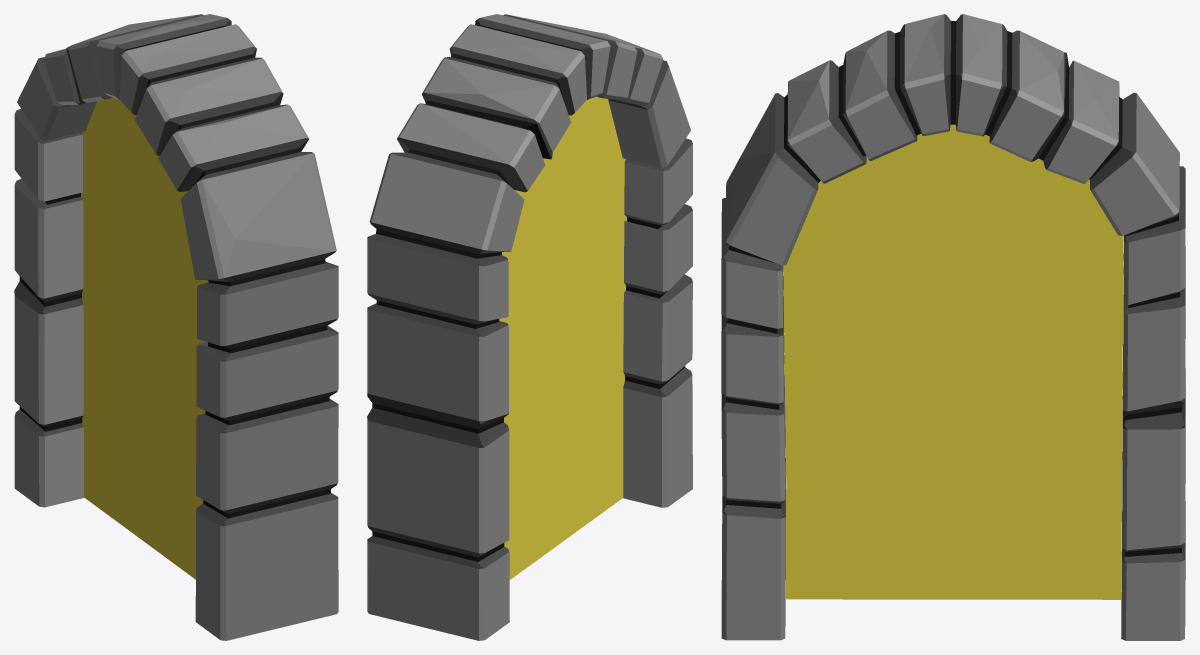
The model's file is portalYellow 1.fbx.
3 renders of one model, left to right at view 1: azimuth 30°, elevation 25°; view 2: azimuth 150°, elevation 25°; view 3: azimuth 270°, elevation 25°, orthographic. The views are drawn at different scales.
Parts seen in each view (by area): view 1: PortalYellow; view 2: PortalYellow; view 3: PortalYellow.
Part boxes in pixels (bbox=[...]): PortalYellow: bbox=[14, 14, 338, 640]; PortalYellow: bbox=[367, 14, 692, 640]; PortalYellow: bbox=[721, 14, 1185, 640].
Bounding box in the file's own units: 92.27 × 382 × 284.
